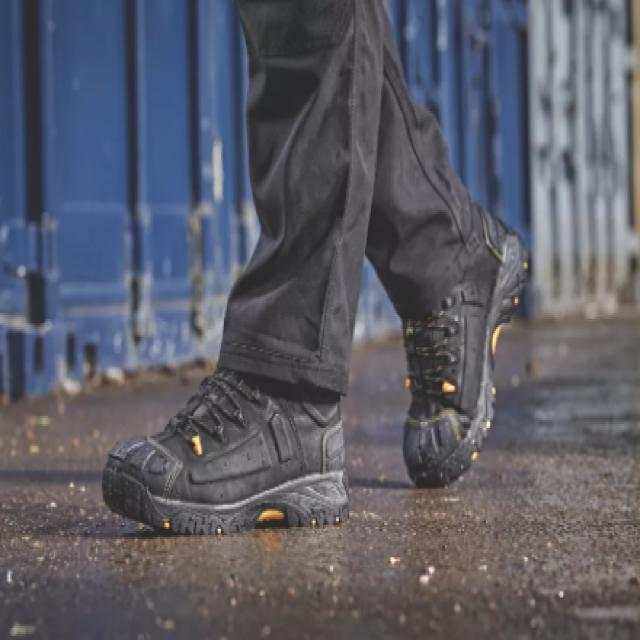boots: (96, 190, 530, 547)
